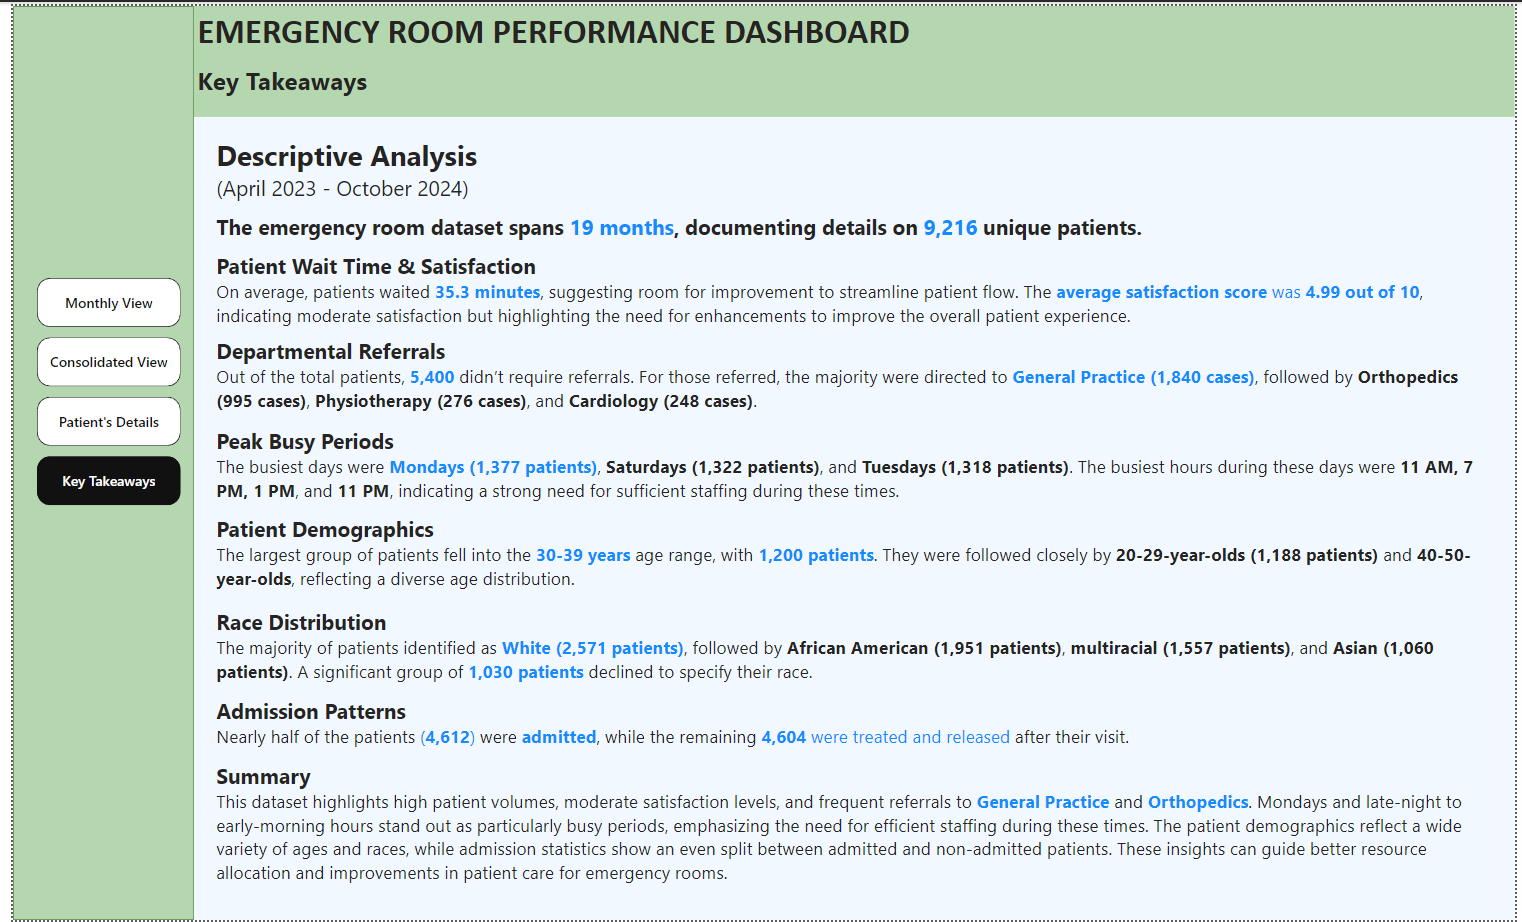

The dashboard page shown, as its layout file describes it:
{"tool":"powerbi","page":{"name":"Key Takeaways","canvas":[2300,1400],"ordinal":3},"visuals":[{"type":"shape","box":[277.3,0,2022.7,169.9],"z":0},{"type":"shape","box":[0,0,276.7,1400],"z":1000},{"type":"textbox","box":[277.3,0,1602.8,84.9],"z":2000},{"type":"textbox","box":[276.7,85,458.3,70],"z":3000},{"type":"textbox","box":[306.7,195,1963.3,115],"z":4000},{"type":"textbox","box":[306.7,311.5,1963.3,58.3],"z":5000},{"type":"textbox","box":[306.7,371.2,1963.3,128.3],"z":6000},{"type":"textbox","box":[306.7,501,1963.3,136.7],"z":7000},{"type":"textbox","box":[306.7,774,1963.3,140],"z":8000},{"type":"textbox","box":[306.7,915.4,1963.3,135],"z":9000},{"type":"textbox","box":[306.7,1051.9,1963.3,98.3],"z":10000},{"type":"textbox","box":[306.7,1151.7,1963.3,201.7],"z":11000},{"type":"textbox","box":[306.7,639.2,1963.3,133.3],"z":12000},{"type":"pageNavigator","box":[36.7,416.7,220,350],"z":13000}]}

Visuals, with their boxes on the page's 2300x1400 design canvas (x1, y1, x2, y2). These are canvas units, not pixel positions in the 1522x922 screenshot, which may show the page scaled, cropped or inside an application window:
shape: x1=277 y1=0 x2=2300 y2=170
shape: x1=0 y1=0 x2=277 y2=1400
textbox: x1=277 y1=0 x2=1880 y2=85
textbox: x1=277 y1=85 x2=735 y2=155
textbox: x1=307 y1=195 x2=2270 y2=310
textbox: x1=307 y1=312 x2=2270 y2=370
textbox: x1=307 y1=371 x2=2270 y2=500
textbox: x1=307 y1=501 x2=2270 y2=638
textbox: x1=307 y1=774 x2=2270 y2=914
textbox: x1=307 y1=915 x2=2270 y2=1050
textbox: x1=307 y1=1052 x2=2270 y2=1150
textbox: x1=307 y1=1152 x2=2270 y2=1353
textbox: x1=307 y1=639 x2=2270 y2=772
pageNavigator: x1=37 y1=417 x2=257 y2=767
